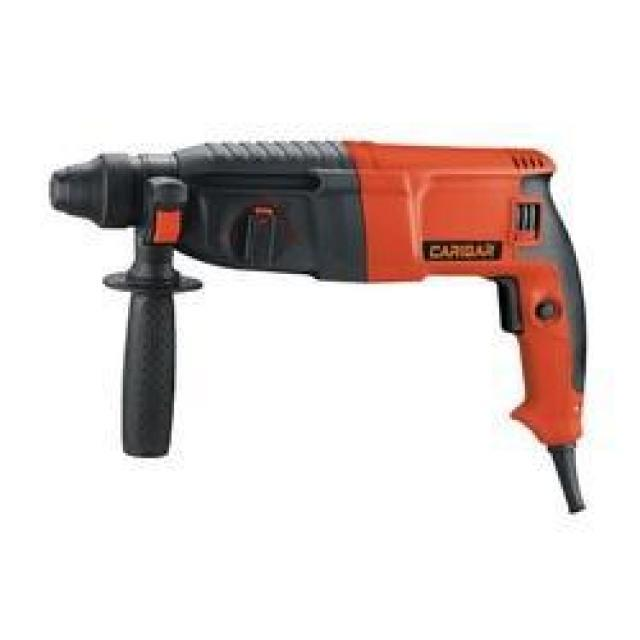drill: (50, 140, 588, 514)
